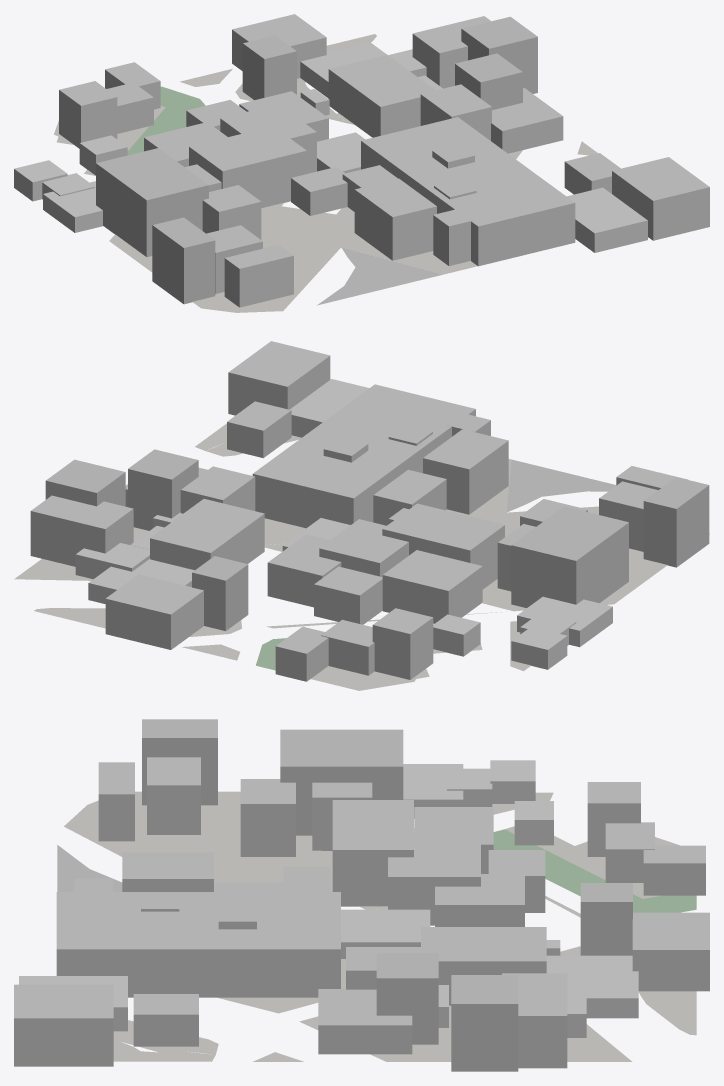
Rendered from 108_109_mid.glb.
3 views of the same model, one above another, from view 1: azimuth 30°, elevation 25°; view 2: azimuth 150°, elevation 25°; view 3: azimuth 270°, elevation 25° (orthographic). The views are drawn at different scales.
Size of the model in its own units: 536 by 60.56 by 544.
